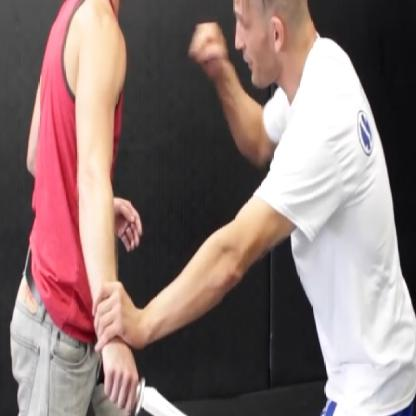knife: (90, 355, 206, 415)
